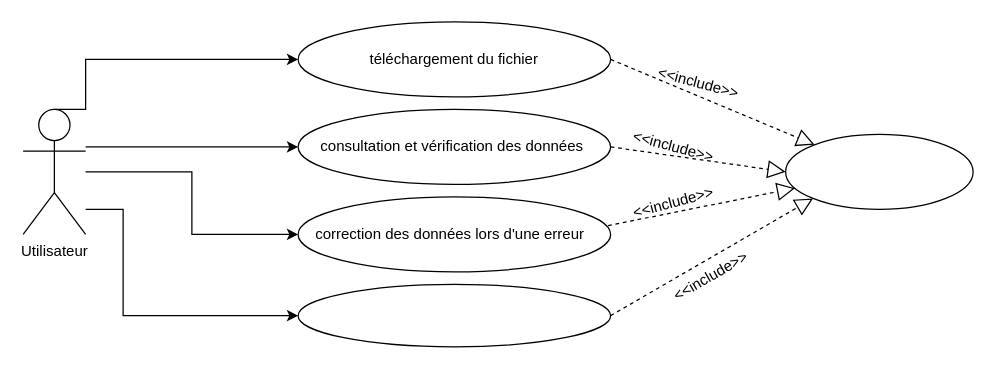
Some shapes in this 995 by 369 pixel diagram are drawn without their labels. Here are the shapes that lost their labels. From the top down, the centre of each, then its label:
the point at 878,171: authentification
the point at 454,315: validation des données
